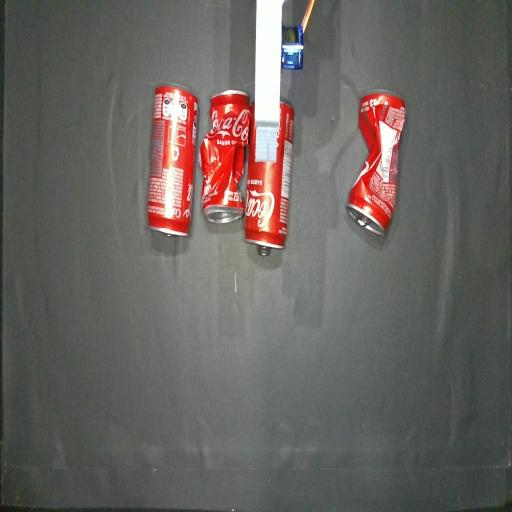lata: (244, 101, 294, 256), (147, 87, 198, 236), (251, 102, 254, 117)
lata_defectuoso: (346, 90, 405, 235), (200, 90, 250, 223)
